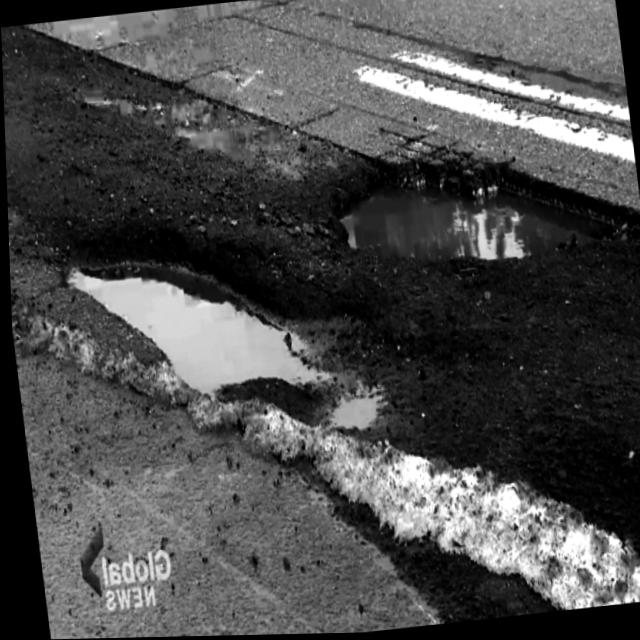pathole: (66, 265, 380, 431), (339, 186, 610, 263), (486, 405, 640, 533)
